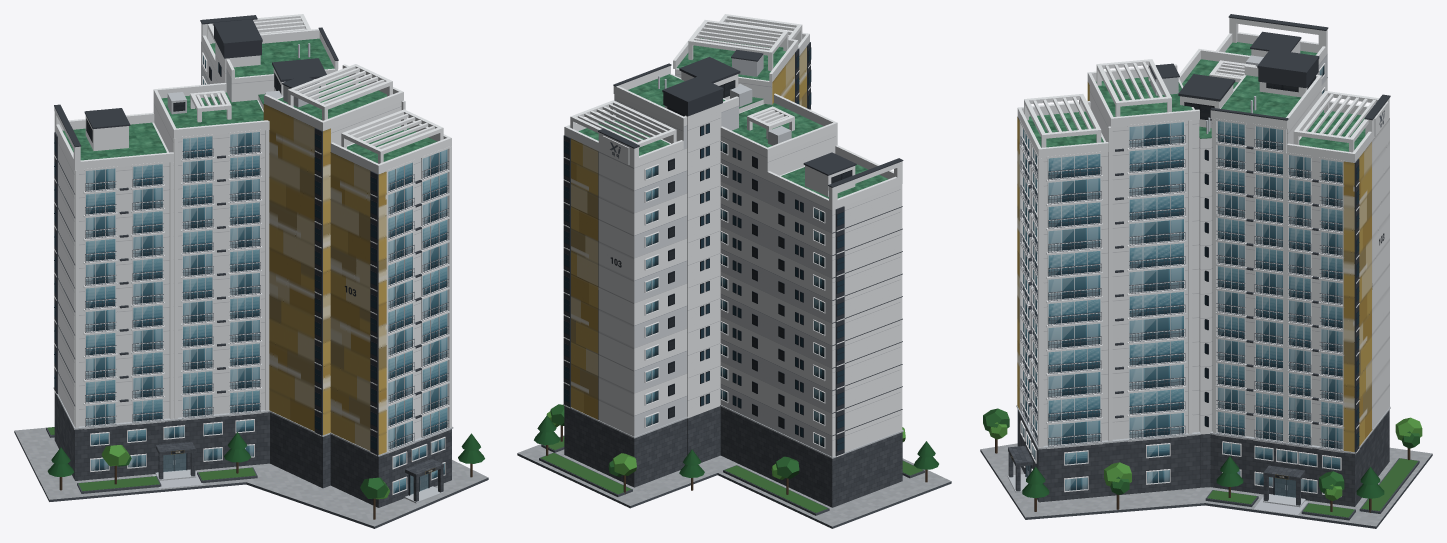
The model's file is place_금호센트럴자이103.glb.
The picture shows the model from 3 angles, left to right: view 1: azimuth 30°, elevation 25°; view 2: azimuth 150°, elevation 25°; view 3: azimuth 270°, elevation 25°; orthographic projection. The views are drawn at different scales.
Parts seen in each view (by area): view 1: Merged_Glass_FrontB (×2), Merged_Glass_FrontA (×2), Merged_WW_PrecastCore, Merged_Win_WhitePVC (×2), Merged_SE_SW_OchreInner, Merged_SE_SW_OchreOuter103, Merged_Balc_DarkRail (×2), Preview_FlatSitePad, Merged_Roof_Parapet (×3), Merged_WW_GraniteBase, Merged_SE_GraniteBase, Merged_Roof_GreenDeck (×3) (+23 smaller); view 2: Merged_WW_NorthBands, Merged_NW_NorthSplitFacade, Merged_WW_PrecastCore, Merged_NW_WestBands, Merged_NW_TallCoreBody, Merged_WW_GraniteBase, Merged_Roof_Parapet (×3), Merged_Pergola_White (×3), Preview_FlatSitePad, Merged_NW_GraniteBase, Merged_Roof_GreenDeck (×3), Merged_Glass_Rear (×2) (+24 smaller); view 3: Merged_Glass_FrontB (×2), Merged_Glass_FrontA (×2), Merged_Win_WhitePVC (×2), Merged_Balc_DarkRail (×2), Merged_SE_PrecastCore, Merged_Slab_WhiteEdge (×2), Merged_NW_NorthSplitFacade, Merged_Pergola_White (×3), Preview_FlatSitePad, Merged_SE_GraniteBase, Merged_Roof_Parapet (×3), Merged_Roof_GreenDeck (×3) (+25 smaller).
Boxes of the visible parts, left/top/right/bottom form: Merged_Glass_FrontB (×2): left=86, top=132, right=447, bottom=470; Merged_Glass_FrontA (×2): left=86, top=136, right=447, bottom=493; Merged_WW_PrecastCore: left=54, top=98, right=264, bottom=426; Merged_Win_WhitePVC (×2): left=85, top=132, right=448, bottom=495; Merged_SE_SW_OchreInner: left=263, top=104, right=314, bottom=431; Merged_SE_SW_OchreOuter103: left=330, top=152, right=370, bottom=450; Merged_Balc_DarkRail (×2): left=85, top=144, right=448, bottom=450; Preview_FlatSitePad: left=14, top=427, right=488, bottom=528; Merged_Roof_Parapet (×3): left=54, top=29, right=451, bottom=174; Merged_WW_GraniteBase: left=54, top=392, right=269, bottom=480; Merged_SE_GraniteBase: left=270, top=412, right=451, bottom=507; Merged_Roof_GreenDeck (×3): left=62, top=38, right=436, bottom=163; Merged_WW_NorthBands: left=720, top=136, right=832, bottom=456; Merged_NW_NorthSplitFacade: left=571, top=138, right=633, bottom=436; Merged_WW_PrecastCore: left=730, top=104, right=900, bottom=456; Merged_NW_WestBands: left=634, top=105, right=738, bottom=436; Merged_NW_TallCoreBody: left=664, top=104, right=721, bottom=418; Merged_WW_GraniteBase: left=720, top=407, right=902, bottom=507; Merged_Roof_Parapet (×3): left=564, top=27, right=902, bottom=210; Merged_Pergola_White (×3): left=570, top=14, right=802, bottom=147; Preview_FlatSitePad: left=517, top=435, right=951, bottom=528; Merged_NW_GraniteBase: left=564, top=406, right=687, bottom=487; Merged_Roof_GreenDeck (×3): left=578, top=38, right=888, bottom=198; Merged_Glass_Rear (×2): left=646, top=142, right=824, bottom=446; Merged_Glass_FrontB (×2): left=1021, top=122, right=1342, bottom=493; Merged_Glass_FrontA (×2): left=1023, top=121, right=1342, bottom=469; Merged_Win_WhitePVC (×2): left=1020, top=121, right=1342, bottom=497; Merged_Balc_DarkRail (×2): left=1020, top=133, right=1342, bottom=450; Merged_SE_PrecastCore: left=1030, top=78, right=1199, bottom=445; Merged_Slab_WhiteEdge (×2): left=1020, top=118, right=1344, bottom=452; Merged_NW_NorthSplitFacade: left=1359, top=118, right=1389, bottom=446; Merged_Pergola_White (×3): left=1024, top=59, right=1379, bottom=152; Preview_FlatSitePad: left=980, top=443, right=1432, bottom=528; Merged_SE_GraniteBase: left=1017, top=409, right=1199, bottom=502; Merged_Roof_Parapet (×3): left=1017, top=32, right=1371, bottom=162; Merged_Roof_GreenDeck (×3): left=1027, top=42, right=1365, bottom=151.
Bounding box in the file's own units: 49.47 × 49.18 × 50.73.
Materials: 34 (17 with a texture image).
